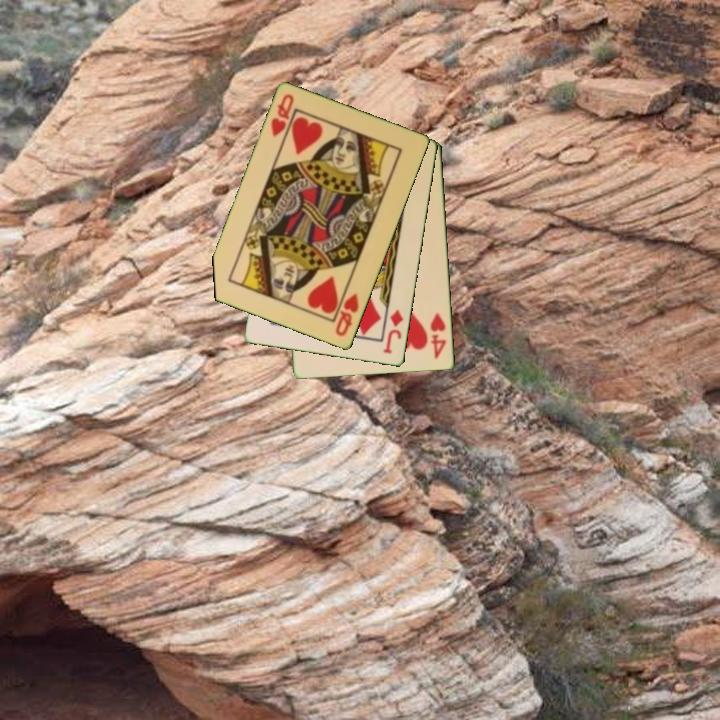4h: (427, 309, 449, 362)
Jd: (380, 306, 406, 357)
Qh: (267, 91, 297, 141), (332, 290, 362, 339)
